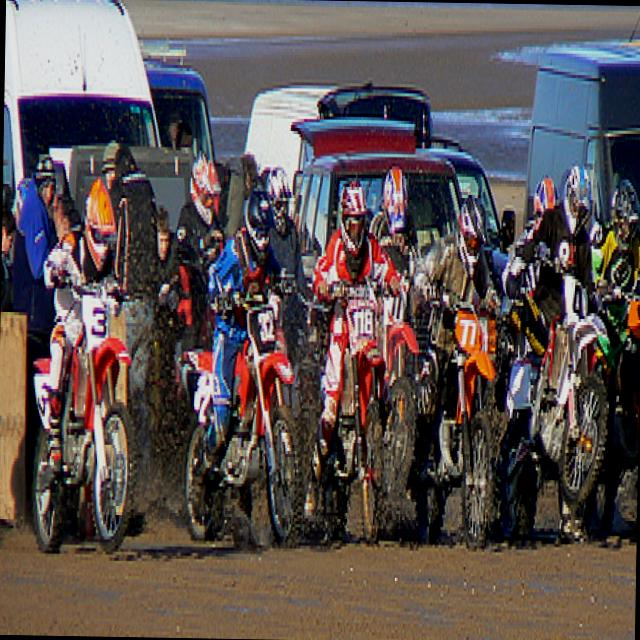Vehicle: (501, 234, 622, 544), (170, 302, 308, 552), (2, 0, 164, 210), (29, 272, 144, 555), (520, 3, 640, 243), (324, 276, 422, 544), (247, 72, 434, 188), (418, 291, 498, 554), (294, 123, 465, 240), (418, 134, 516, 278), (492, 284, 552, 502), (138, 43, 218, 157), (616, 273, 640, 548), (381, 284, 418, 414)
